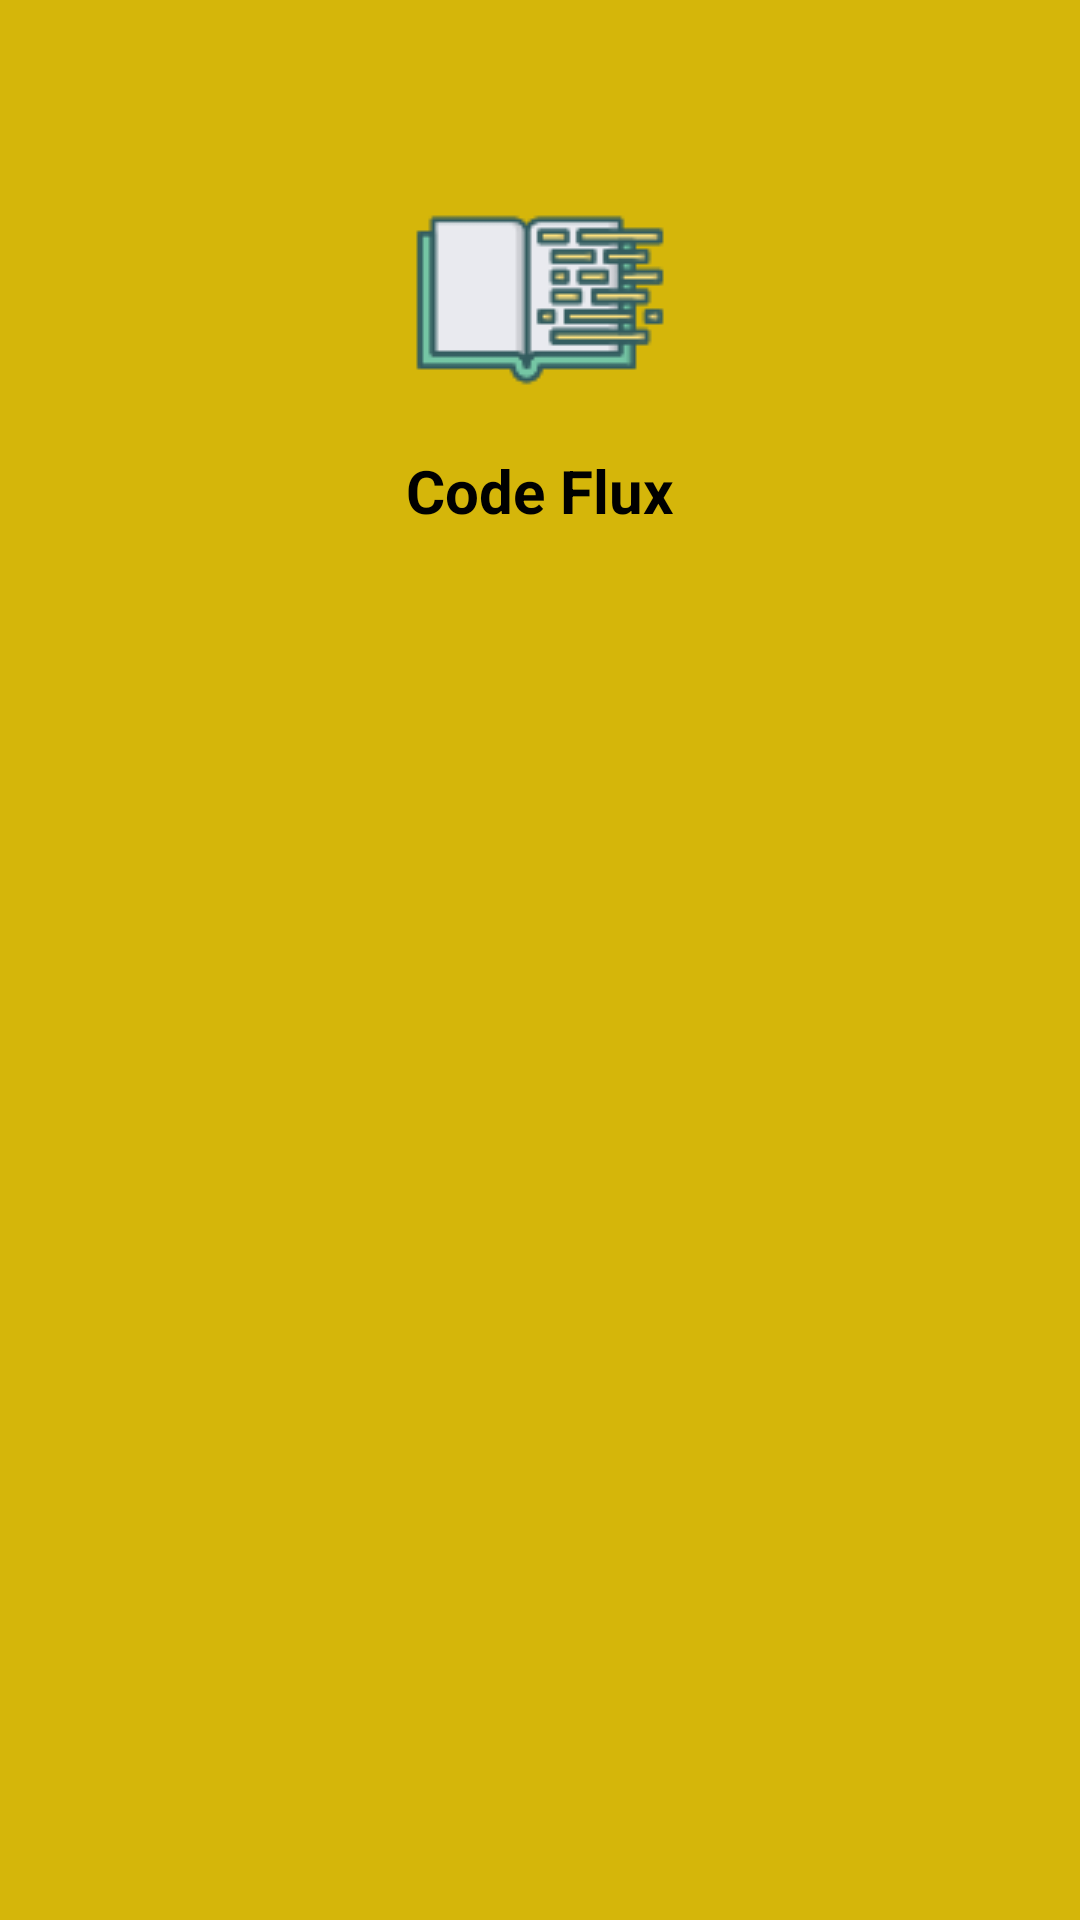

Where icons sit on this 1080 x 1920 app screen, as bbox(x1, y1, x2, y2):
bookonehundred: bbox(416, 215, 664, 385)
